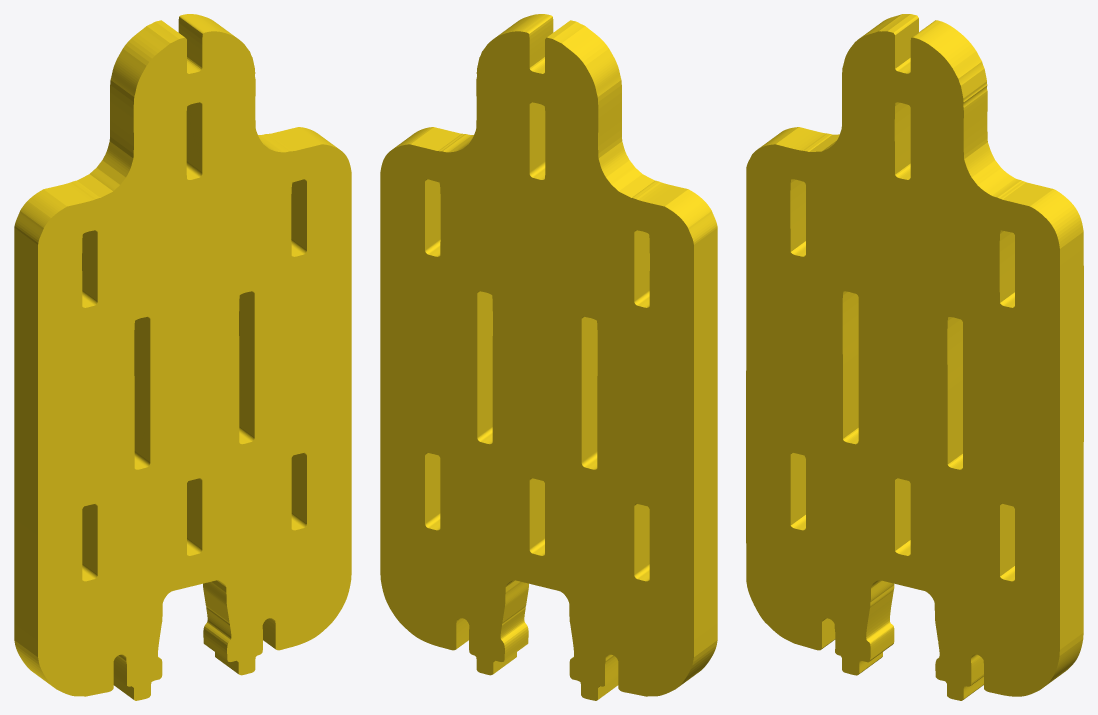
The model's file is tinker.obj.
3 views of the same model, side by side, from view 1: azimuth 30°, elevation 25°; view 2: azimuth 150°, elevation 25°; view 3: azimuth 330°, elevation 25° (orthographic).
Visible parts, largest first — view 1: obj_0; view 2: obj_0; view 3: obj_0.
Part boxes in pixels (x1=…): obj_0: x1=14, y1=14, x2=351, y2=700; obj_0: x1=380, y1=14, x2=717, y2=700; obj_0: x1=746, y1=14, x2=1083, y2=700.
Bounding box in the file's own units: 76.39 × 152 × 10.
